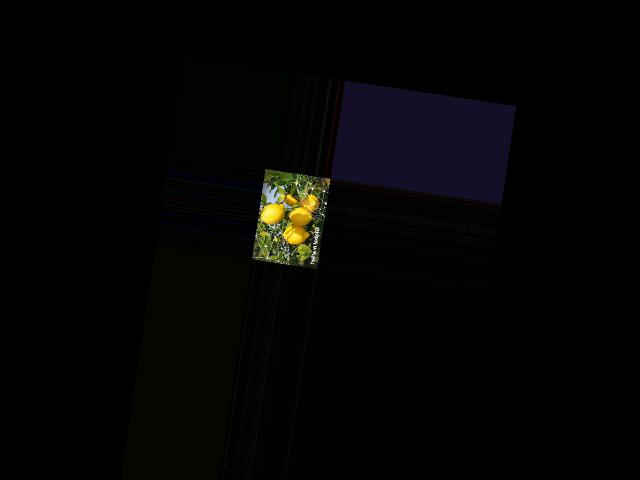lemon: (258, 200, 287, 226)
